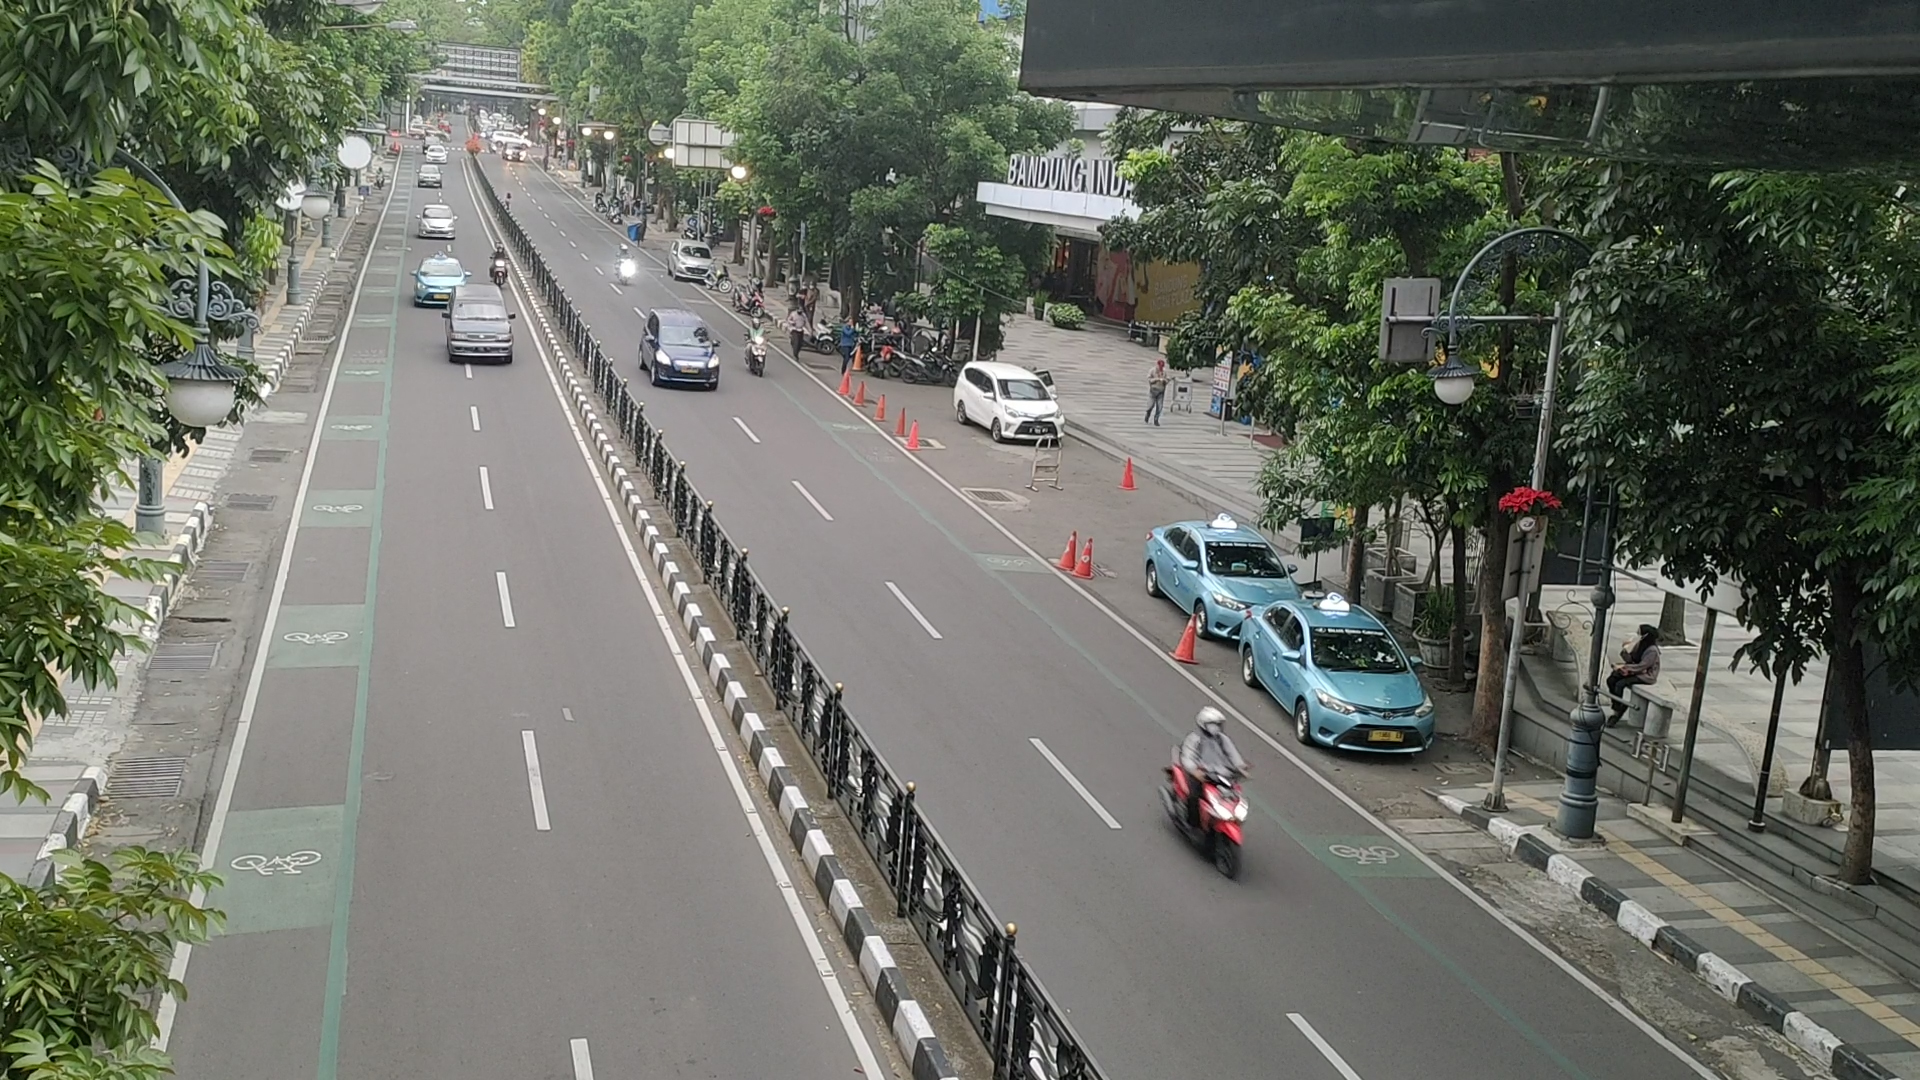mobil: (1298, 622, 1433, 761), (988, 372, 1065, 448), (443, 295, 514, 368), (651, 320, 719, 394)
motor: (1164, 705, 1251, 887)
